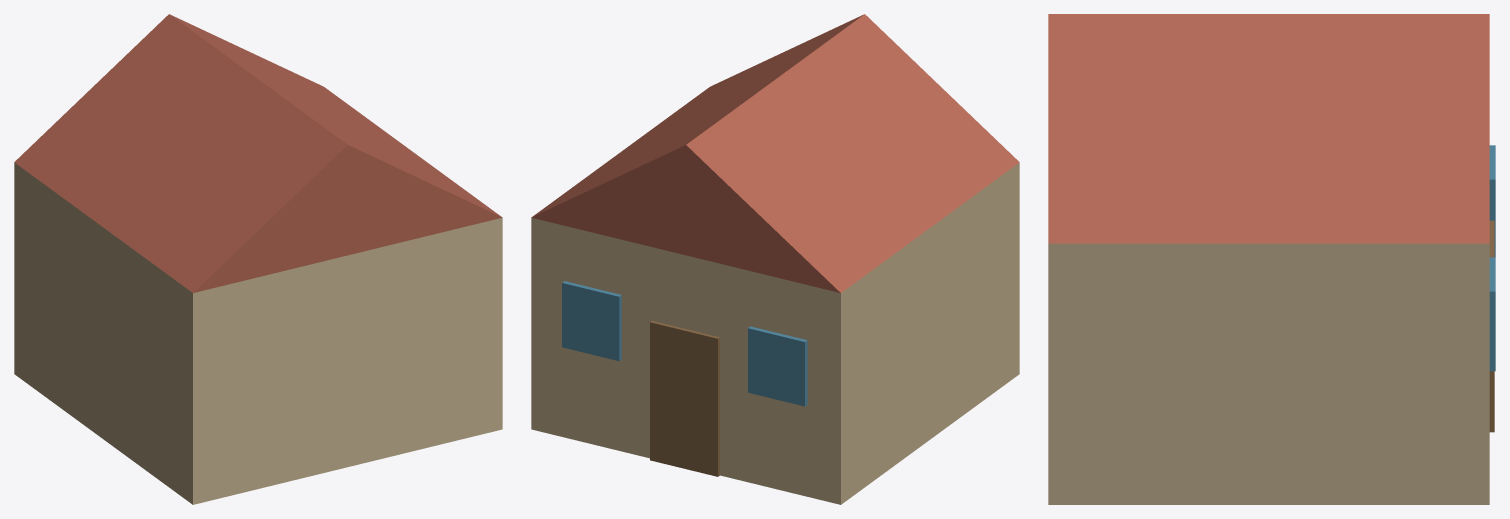
File: house_small.glb
3 views of the same model, side by side, from view 1: azimuth 30°, elevation 25°; view 2: azimuth 150°, elevation 25°; view 3: azimuth 270°, elevation 25° (orthographic). The views are drawn at different scales.
Size of the model in its own units: 3.52 by 3.5 by 3.57.
